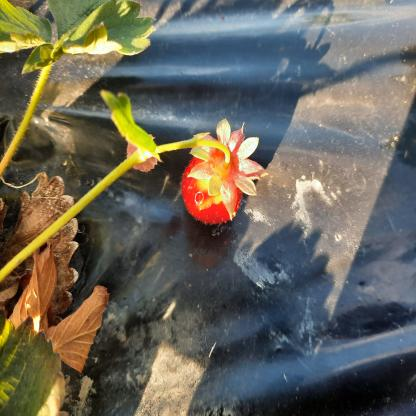ripe: (183, 144, 242, 222)
